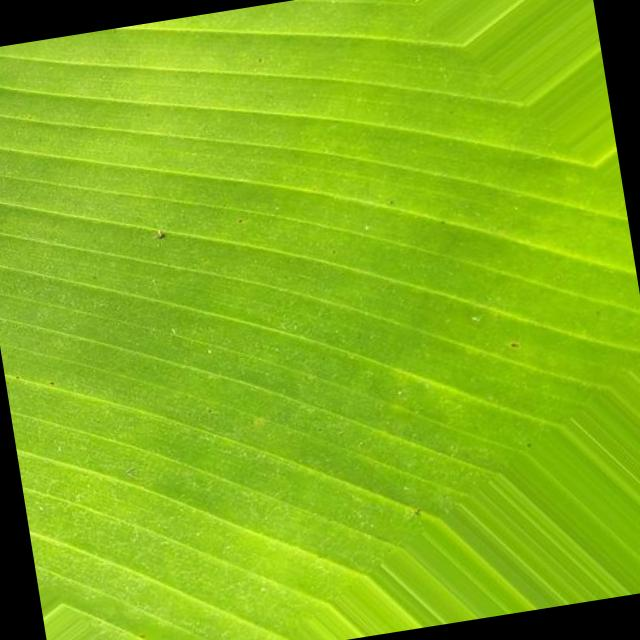Banana_Healthy: (54, 74, 558, 526)
